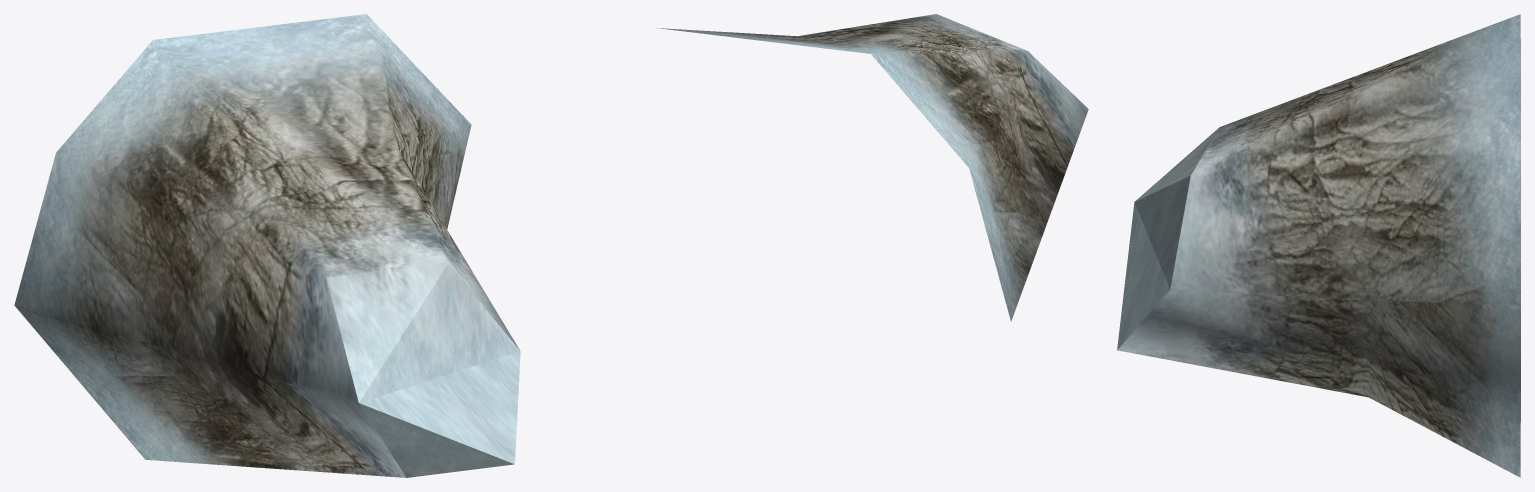
3 views of the same model, side by side, from view 1: azimuth 30°, elevation 25°; view 2: azimuth 150°, elevation 25°; view 3: azimuth 270°, elevation 25° (orthographic). The views are drawn at different scales.
Parts seen in each view (by area): view 1: model_Object84; view 2: model_Object84; view 3: model_Object84.
Boxes of the visible parts, <box> form: model_Object84: <box>14,14,520,477</box>; model_Object84: <box>657,14,1088,321</box>; model_Object84: <box>1117,14,1520,477</box>.
Bounding box in the file's own units: 3.26 × 2.85 × 2.72.
1 material, 1 textured.
